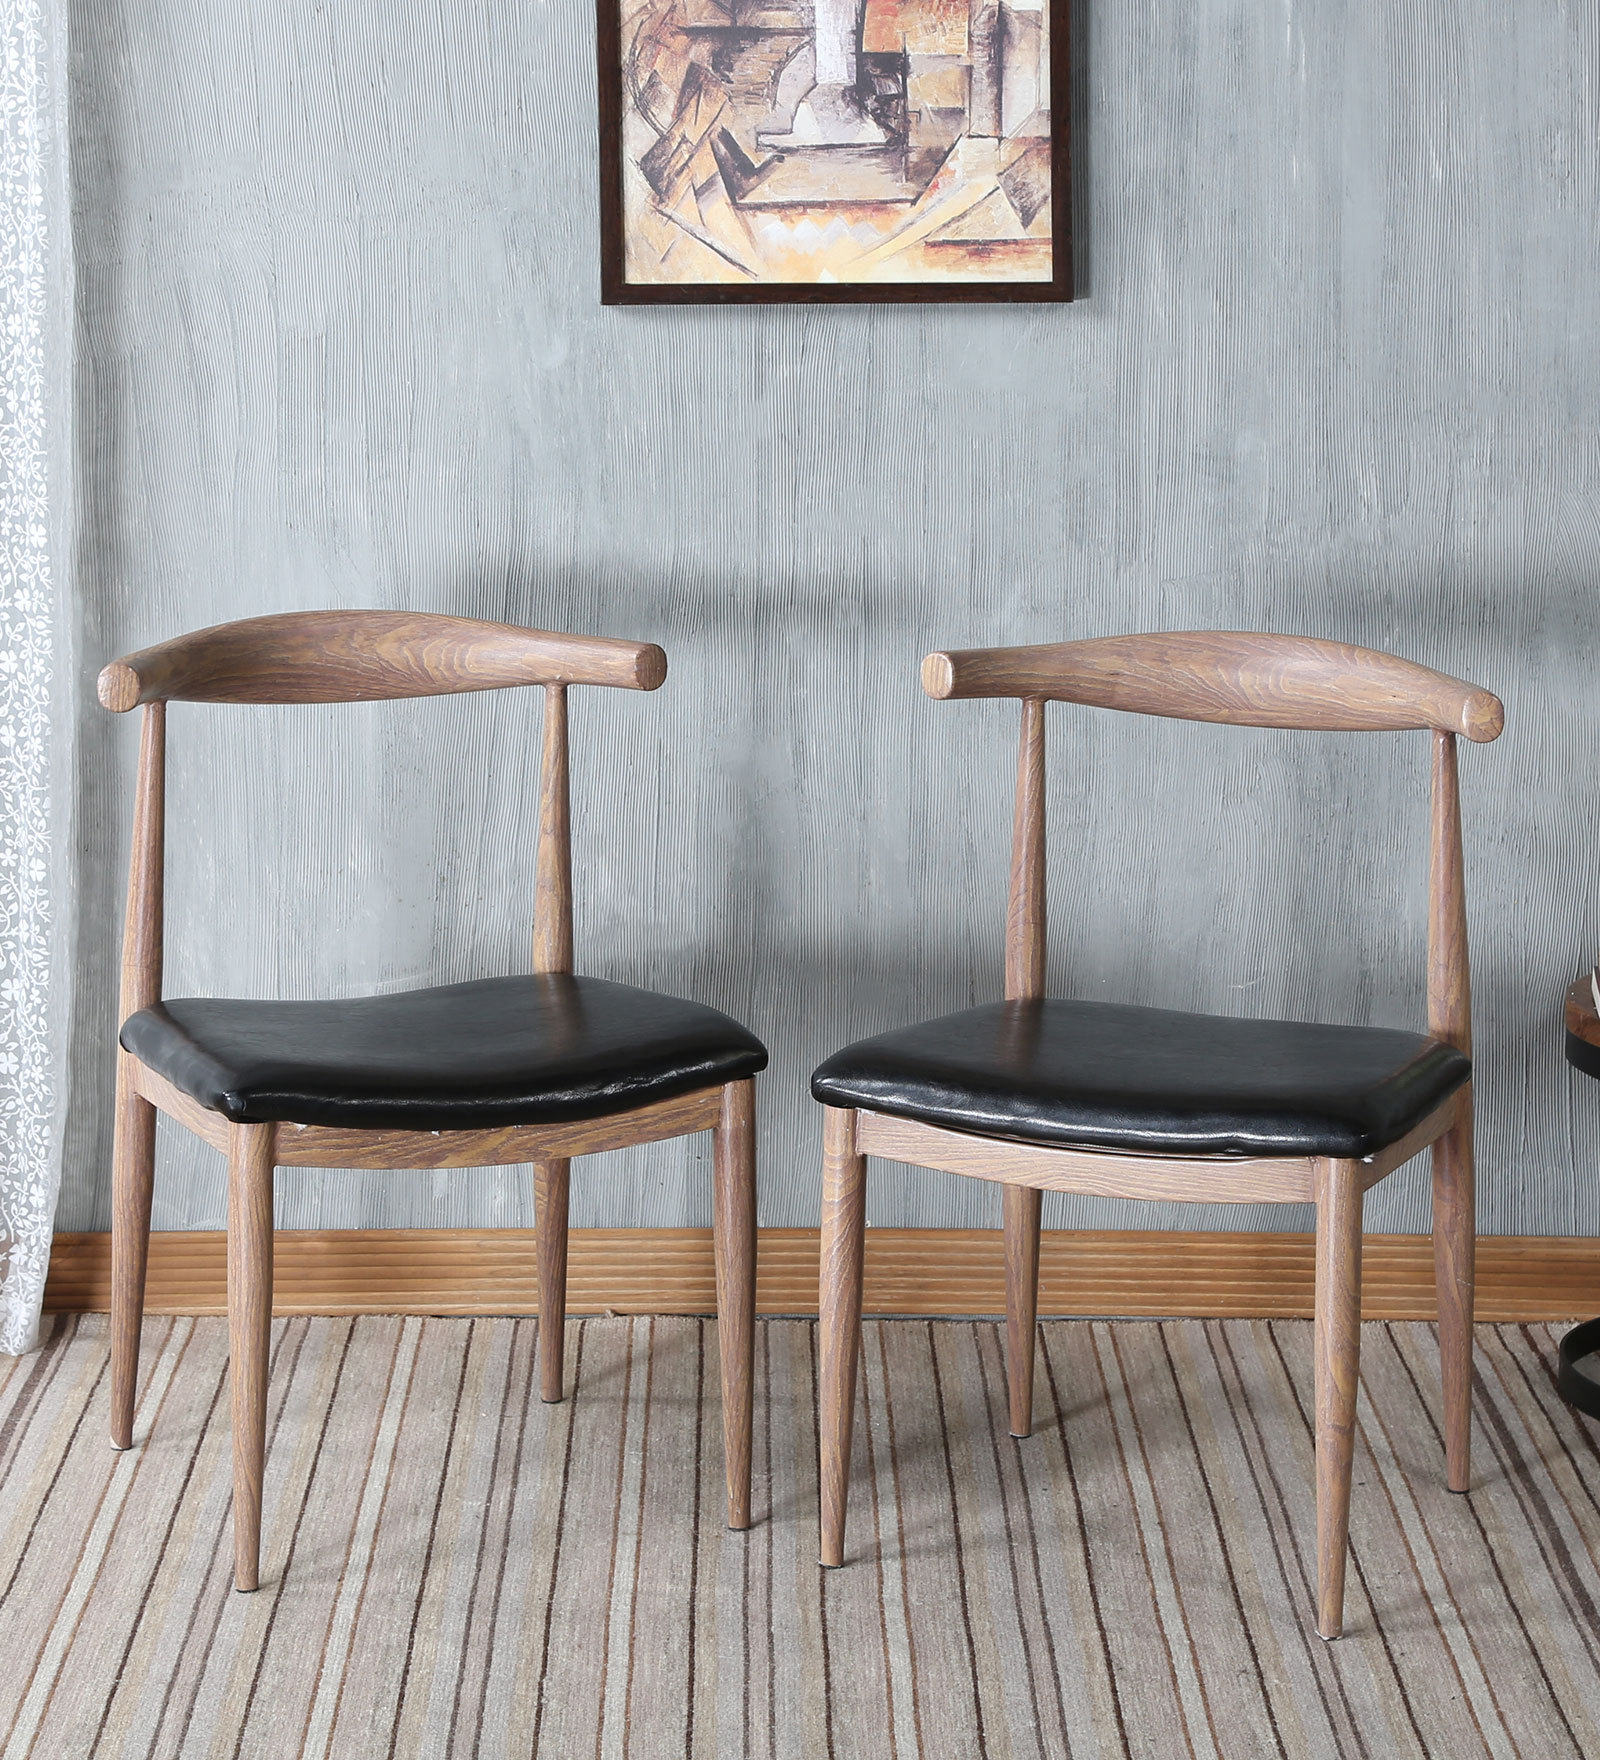Sherman Metal Chair (Set of 2) in Wooden Finish by Bohemiana: (57, 465, 788, 1705), (825, 457, 1519, 1696)
